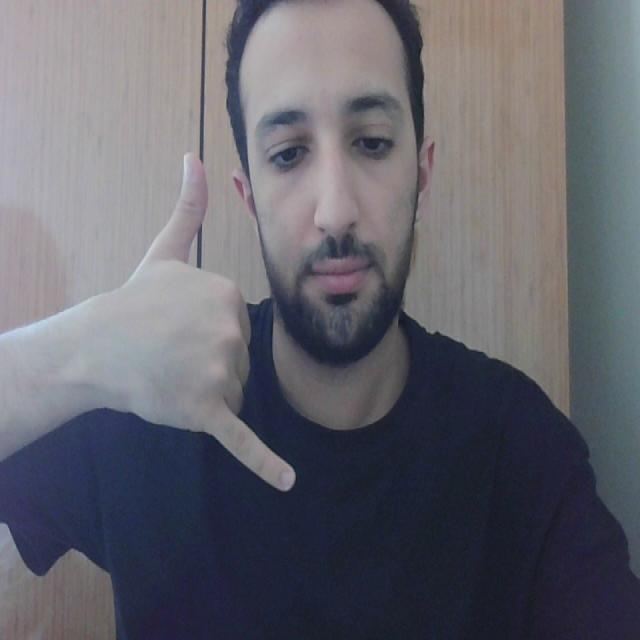Telefon: (141, 121, 319, 493)
